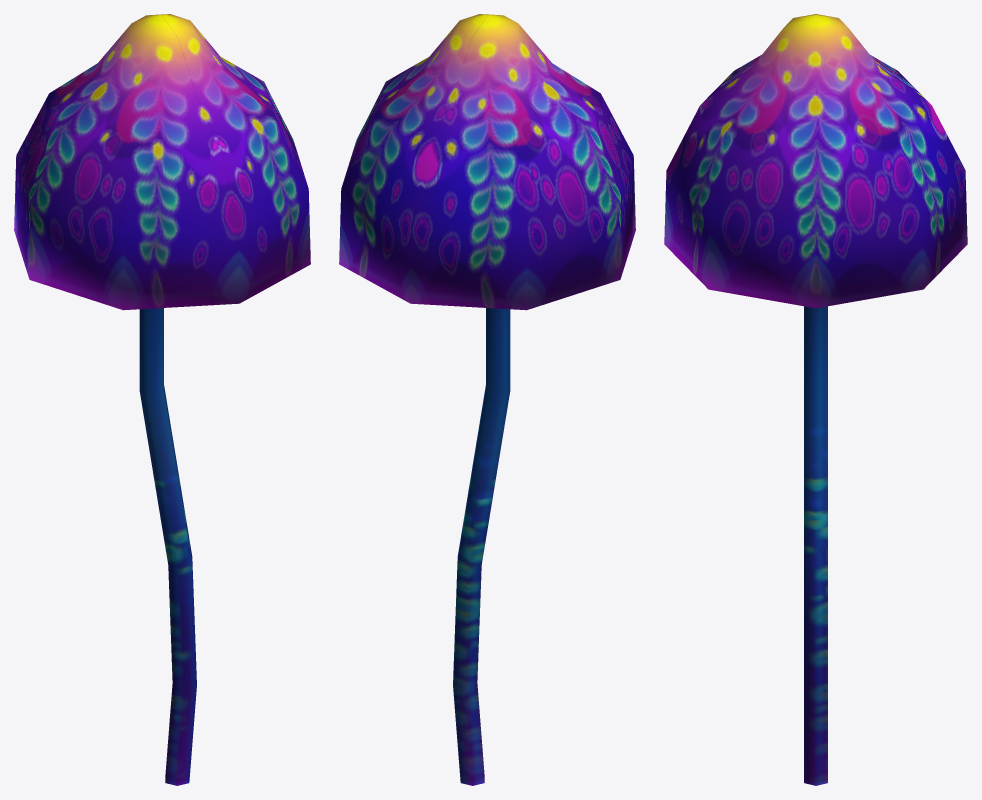
File: Mushroom_04G_b.FBX
The picture shows the model from 3 angles, left to right: view 1: azimuth 30°, elevation 25°; view 2: azimuth 150°, elevation 25°; view 3: azimuth 270°, elevation 25°; orthographic projection.
Parts seen in each view (by area): view 1: Mushroom_04G_b; view 2: Mushroom_04G_b; view 3: Mushroom_04G_b.
Boxes of the visible parts, bbox=[...] form: Mushroom_04G_b: bbox=[14, 14, 310, 785]; Mushroom_04G_b: bbox=[339, 14, 635, 785]; Mushroom_04G_b: bbox=[664, 14, 967, 785].
Size of the model in its own units: 126 by 348 by 127.
